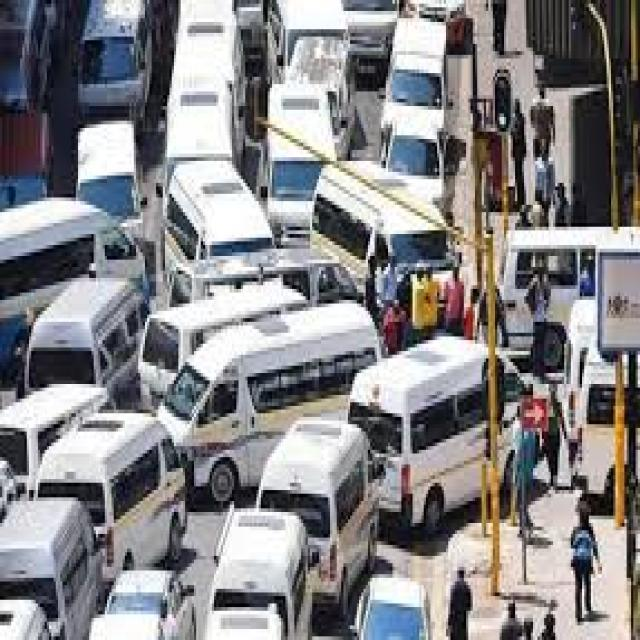MiniBus taxi: (158, 300, 382, 512), (348, 329, 551, 534), (261, 410, 383, 618)
Pedestrians: (562, 494, 604, 622), (439, 564, 475, 636)
